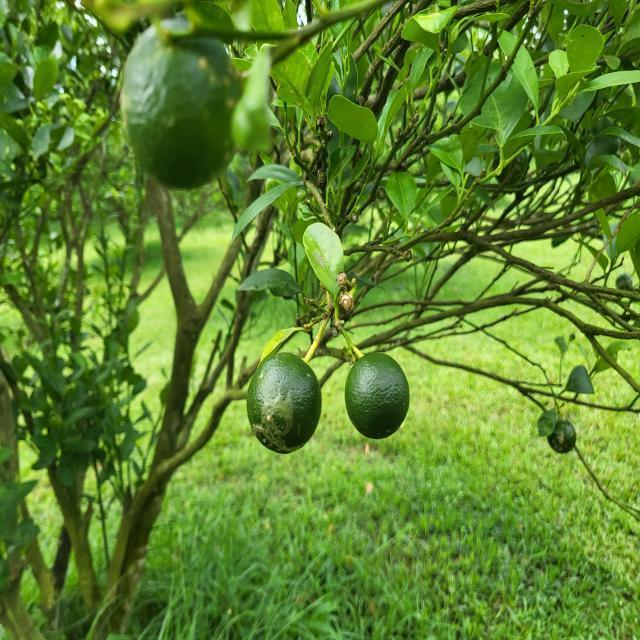thrips: (244, 342, 324, 452)
